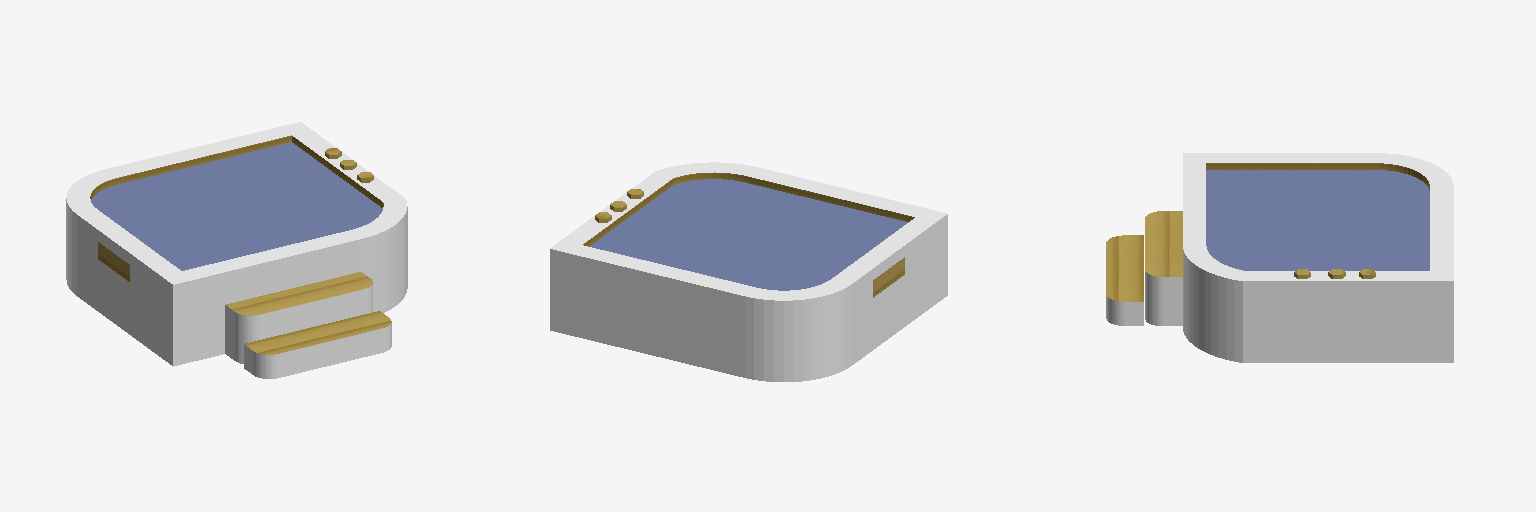
3 views of the same model, side by side, from view 1: azimuth 30°, elevation 25°; view 2: azimuth 150°, elevation 25°; view 3: azimuth 270°, elevation 25° (orthographic).
Visible parts, largest first — view 1: Mesh1 Group1 bathtub1 Model, Mesh2 Group1 bathtub1 Model; view 2: Mesh1 Group1 bathtub1 Model; view 3: Mesh1 Group1 bathtub1 Model, Mesh2 Group1 bathtub1 Model.
Boxes of the visible parts, x1,y1,x2,y2 form: Mesh1 Group1 bathtub1 Model: [66, 122, 407, 366]; Mesh2 Group1 bathtub1 Model: [244, 311, 391, 378]; Mesh1 Group1 bathtub1 Model: [550, 162, 947, 381]; Mesh1 Group1 bathtub1 Model: [1145, 153, 1453, 362]; Mesh2 Group1 bathtub1 Model: [1106, 235, 1143, 325].
Bounding box in the file's own units: 3.01 × 0.9398 × 3.45.
Materials: 3 (1 with a texture image).